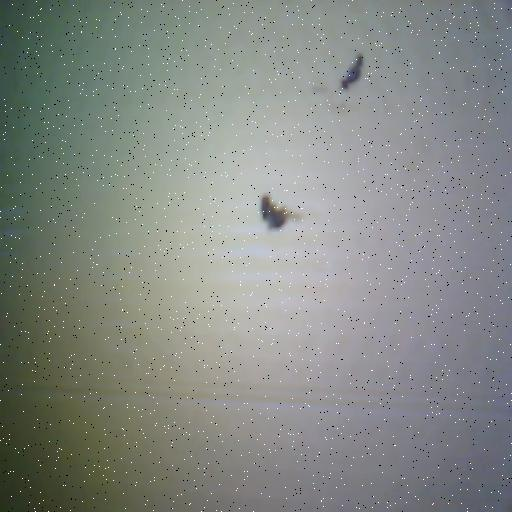Insects: (261, 195, 301, 229), (340, 54, 364, 90)
